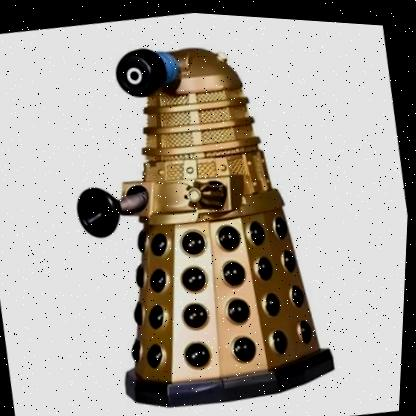dalek: (19, 2, 388, 416)
